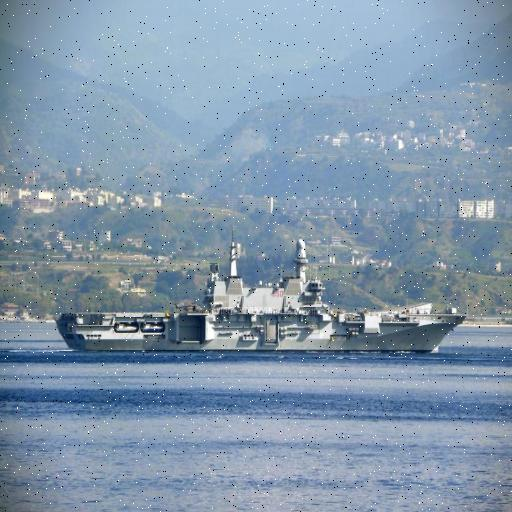Portanaves: (56, 233, 469, 363)
